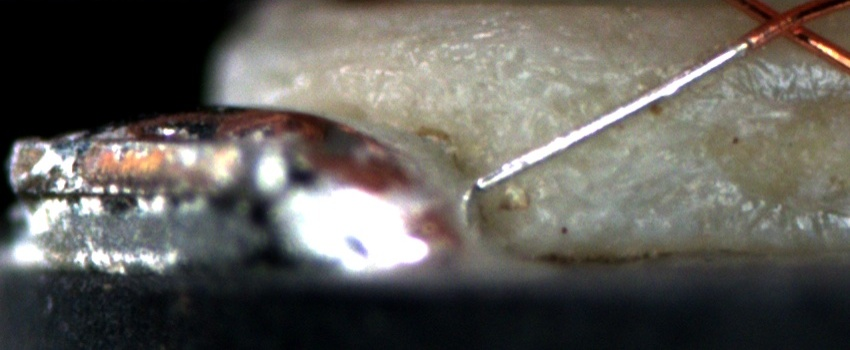CL: (739, 1, 823, 48)
DL: (641, 49, 850, 85)
TS: (475, 42, 745, 189)
